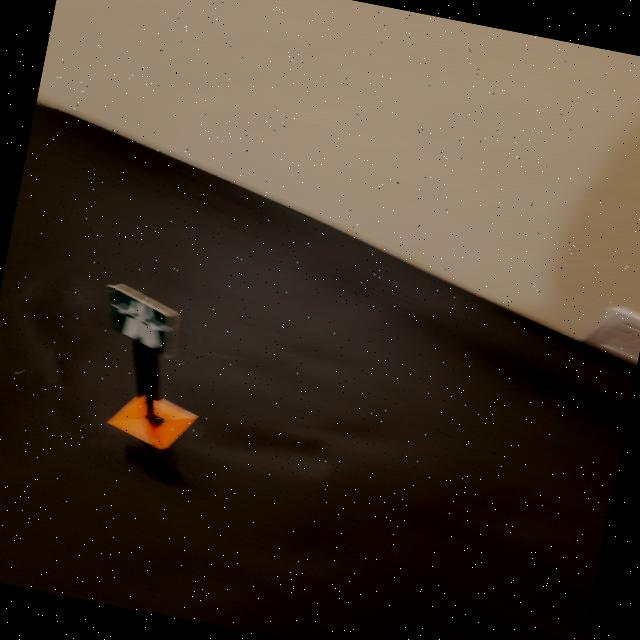highway_entrance: (98, 284, 183, 358)
